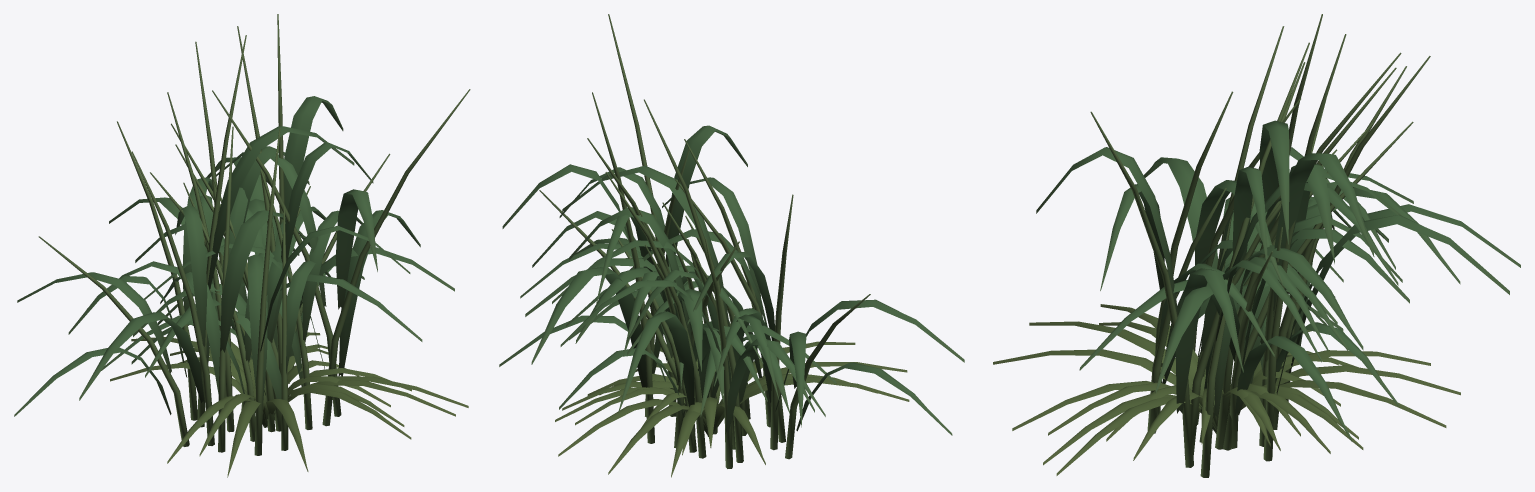
Rendered from rush-fan.glb.
3 renders of one model, left to right at view 1: azimuth 30°, elevation 25°; view 2: azimuth 150°, elevation 25°; view 3: azimuth 270°, elevation 25°, orthographic. The views are drawn at different scales.
Parts seen in each view (by area): view 1: RF06B rush-fan; view 2: RF06B rush-fan; view 3: RF06B rush-fan.
Boxes of the visible parts, <box> form: RF06B rush-fan: <box>14,14,470,477</box>; RF06B rush-fan: <box>499,14,964,477</box>; RF06B rush-fan: <box>993,14,1520,477</box>.
Bounding box in the file's own units: 1.46 × 1.23 × 1.33.
